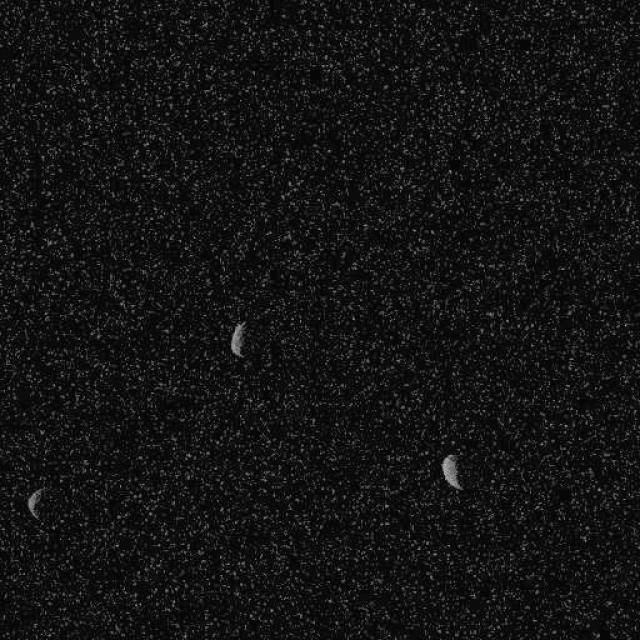D2: (440, 452, 464, 492), (228, 320, 248, 359), (26, 485, 45, 520)
